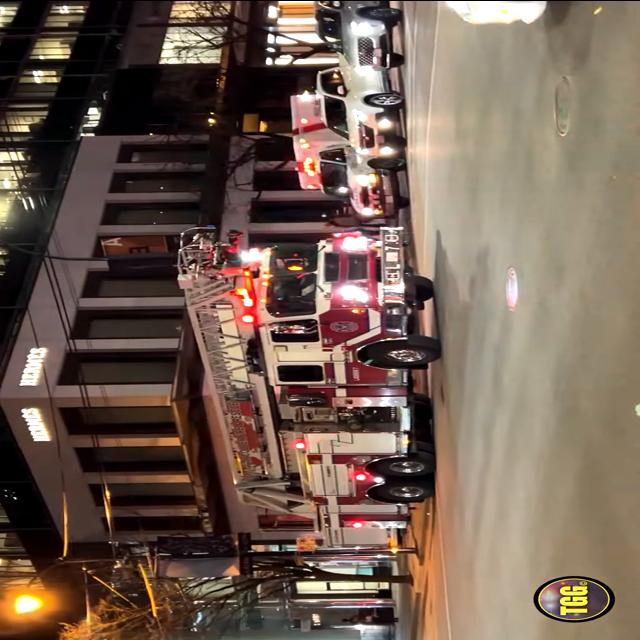emergency-vehicles: (175, 218, 447, 546), (286, 86, 410, 218)
